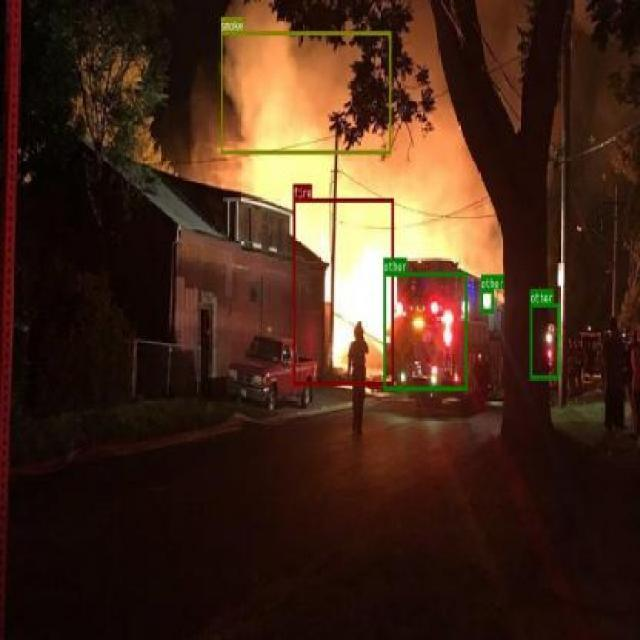Fire: (292, 198, 394, 384)
Smoke: (220, 32, 391, 154)
